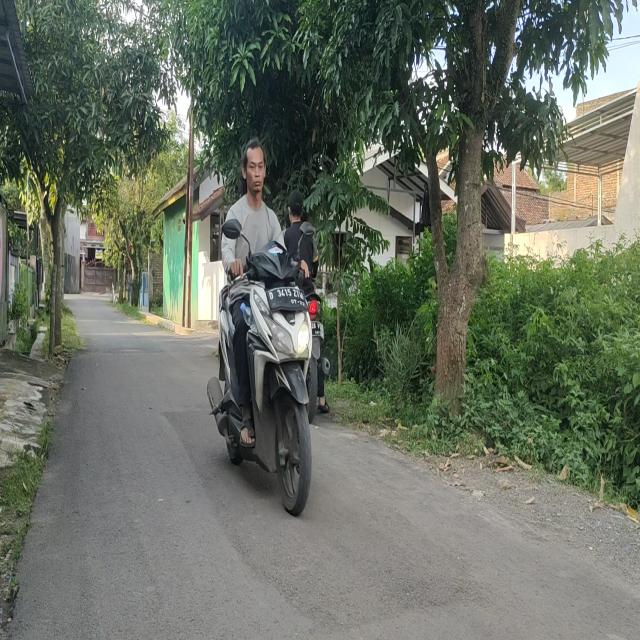no-helmet: (241, 138, 267, 197), (288, 190, 304, 221)
